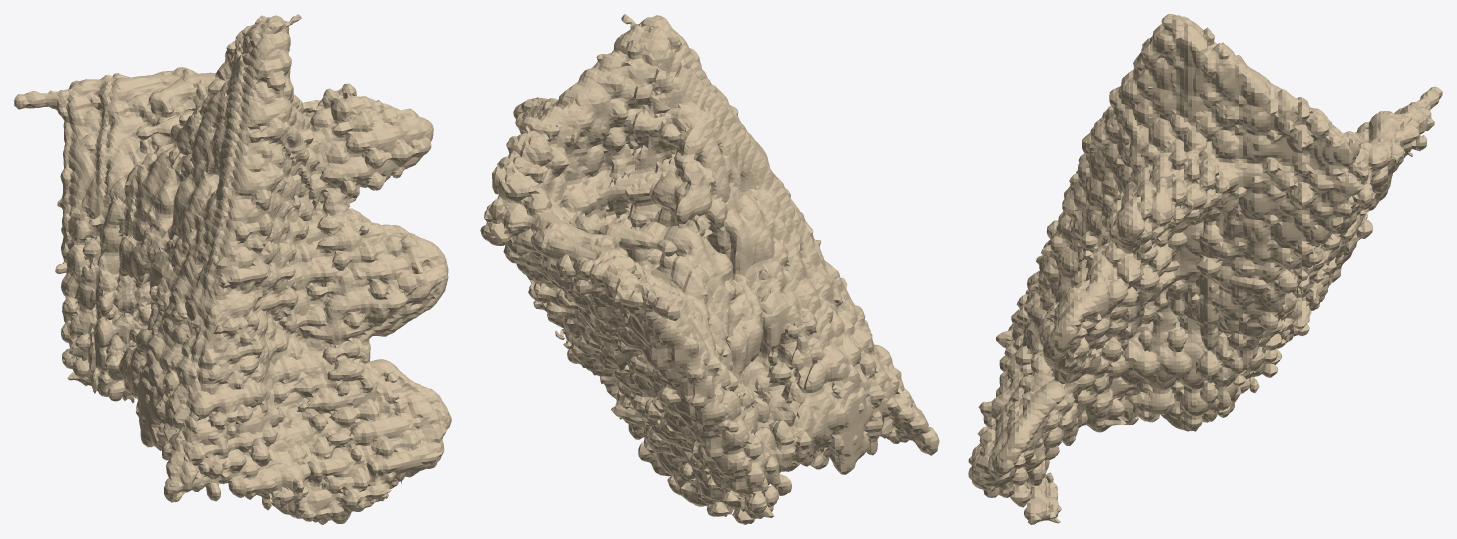
Rendered from raw.glb.
The picture shows the model from 3 angles, left to right: view 1: azimuth 30°, elevation 25°; view 2: azimuth 150°, elevation 25°; view 3: azimuth 270°, elevation 25°; orthographic projection. The views are drawn at different scales.
Parts seen in each view (by area): view 1: world; view 2: world; view 3: world.
Part boxes in pixels (x1,y1,x2,y2): world: (14,14,451,524); world: (480,14,939,524); world: (968,14,1442,524).
Bounding box in the file's own units: 0.85 × 1.17 × 1.01.
